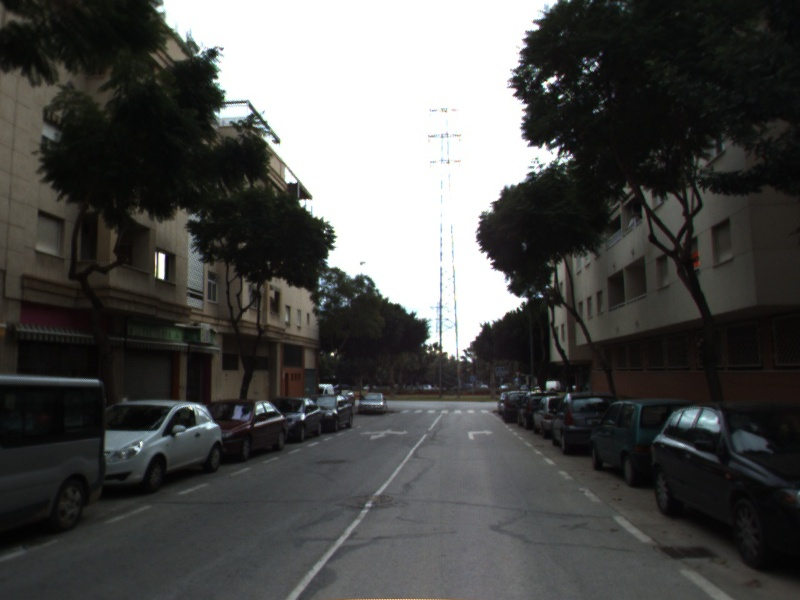RIGHT: (465, 427, 496, 441)
